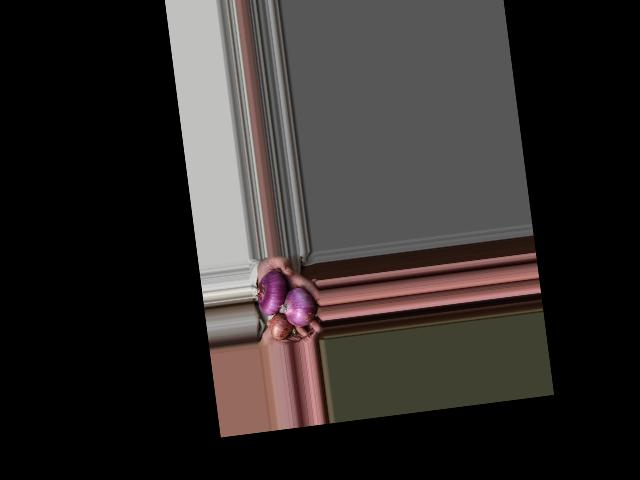onion: (255, 269, 287, 315)
